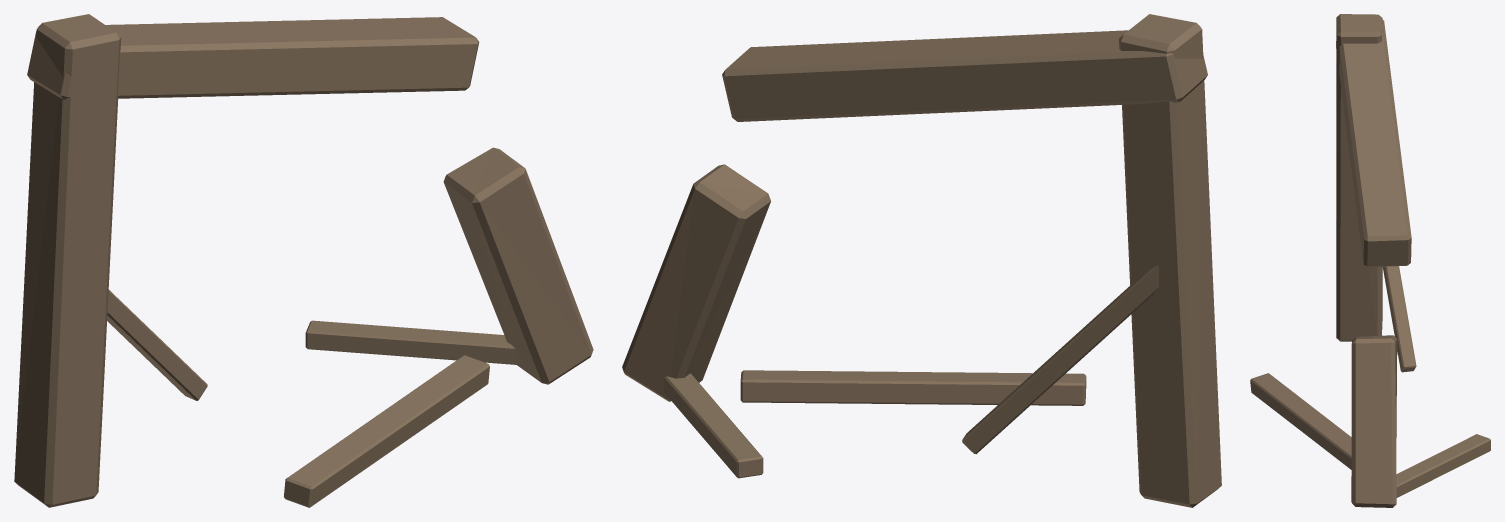
Rendered from mine_support.glb.
3 renders of one model, left to right at view 1: azimuth 30°, elevation 25°; view 2: azimuth 150°, elevation 25°; view 3: azimuth 270°, elevation 25°, orthographic. The views are drawn at different scales.
Parts seen in each view (by area): view 1: wood; view 2: wood; view 3: wood.
Part boxes in pixels (bbox=[...]): wood: bbox=[14, 14, 593, 507]; wood: bbox=[622, 14, 1221, 507]; wood: bbox=[1250, 14, 1490, 507].
Size of the model in its own units: 3.21 by 2.56 by 1.72.
